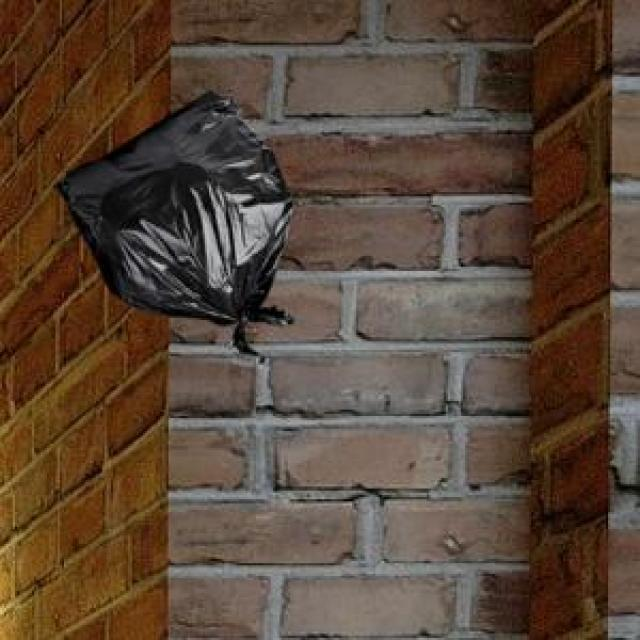Trashbag: (51, 80, 299, 368)
